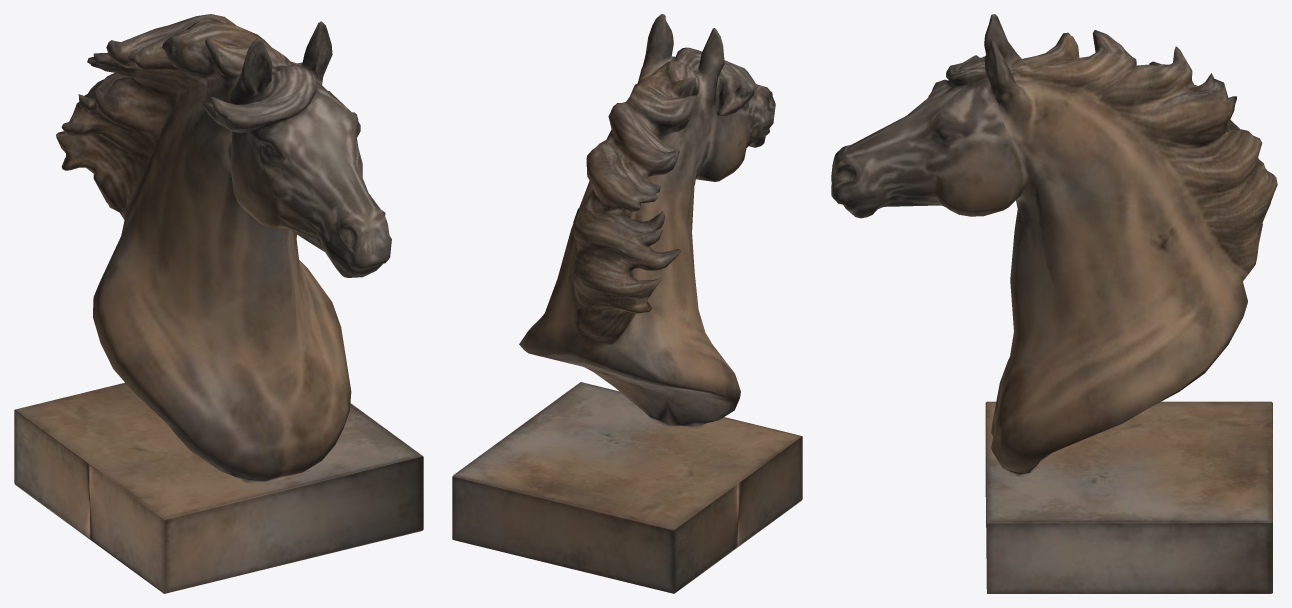
File: horse_head.glb
The picture shows the model from 3 angles, left to right: view 1: azimuth 30°, elevation 25°; view 2: azimuth 150°, elevation 25°; view 3: azimuth 270°, elevation 25°; orthographic projection. The views are drawn at different scales.
Parts seen in each view (by area): view 1: horse_head; view 2: horse_head; view 3: horse_head.
Boxes of the visible parts, x1,y1,x2,y2 form: horse_head: [14, 14, 423, 593]; horse_head: [452, 14, 802, 593]; horse_head: [831, 14, 1277, 593].
Size of the model in its own units: 0.2139 by 0.4184 by 0.3339.
1 material, 1 textured.
